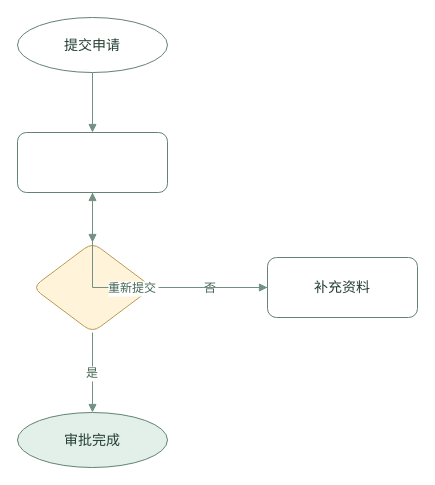
Some shapes in this 435 by 485 pixel diagram are drawn without their labels. The centre of each missing label's shape, as x and y in pixels:
"是否通过？" goes at (x=92, y=287).
"资料校验" goes at (x=92, y=162).
